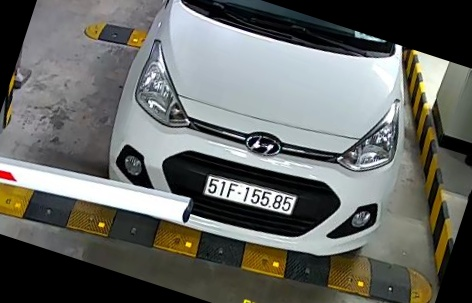plate: (194, 167, 305, 225)
